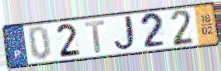0: (27, 25, 52, 62)
2: (138, 11, 170, 52), (169, 9, 196, 48), (55, 22, 83, 59)
J: (113, 14, 140, 54)
T: (84, 19, 107, 55)
